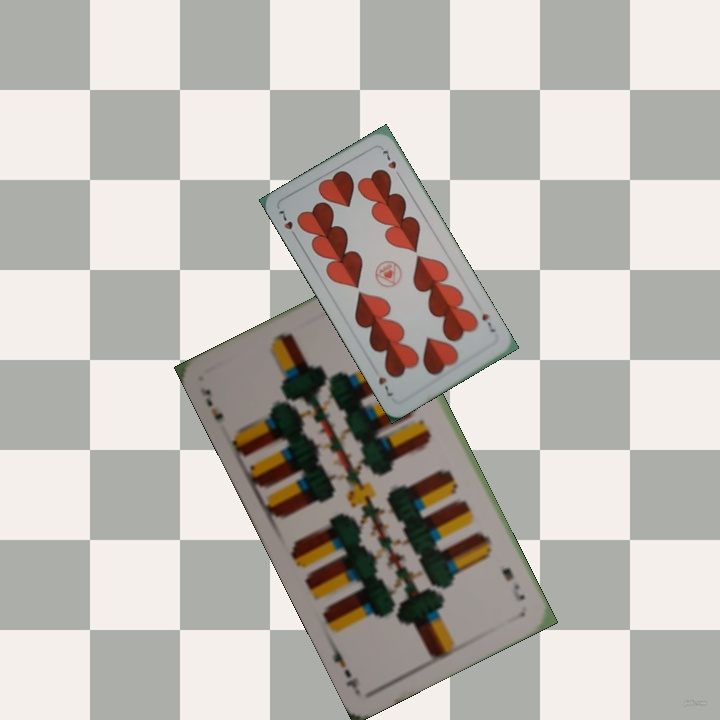E7: (497, 563, 528, 604), (196, 383, 226, 423)
H7: (274, 206, 300, 242), (478, 309, 498, 335)
